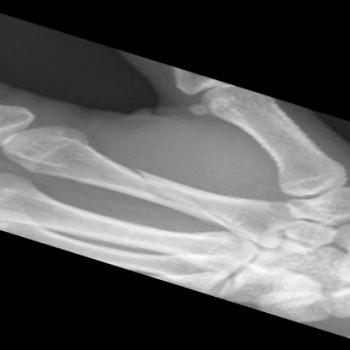Fracture: (125, 162, 166, 192)
